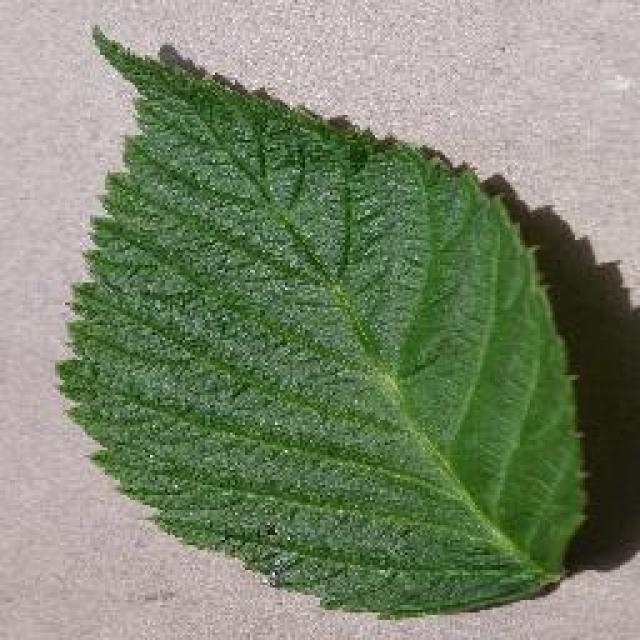Ras_healthy: (84, 77, 565, 547)
